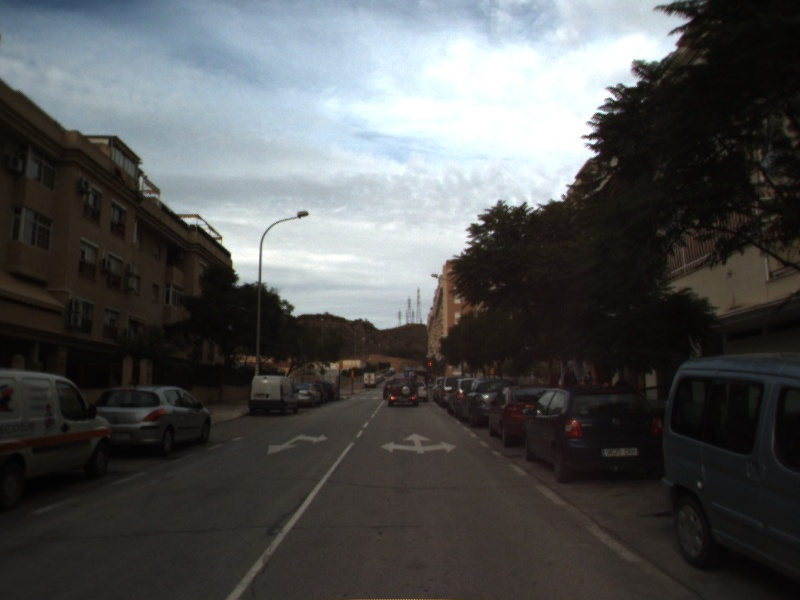STRAIGHT_LEFT_RIGHT: (379, 431, 459, 456)
